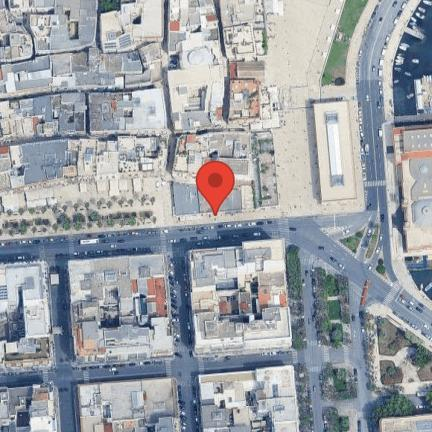area_open: (379, 0, 432, 314), (0, 175, 174, 242), (270, 86, 326, 216), (262, 0, 344, 87), (324, 80, 371, 215), (279, 213, 348, 268), (348, 0, 386, 82), (312, 82, 356, 101), (170, 355, 208, 376), (51, 367, 83, 387), (161, 55, 181, 69)
built: (190, 243, 292, 355), (68, 254, 172, 361), (196, 366, 303, 432), (78, 378, 183, 432), (0, 260, 53, 364), (393, 122, 432, 256), (313, 101, 359, 203), (168, 62, 223, 133), (172, 131, 250, 178), (31, 0, 98, 53), (14, 140, 81, 190), (91, 88, 165, 131), (0, 386, 60, 432), (0, 95, 54, 142), (172, 183, 245, 217), (112, 44, 162, 87), (252, 131, 279, 208), (0, 1, 34, 61), (120, 0, 164, 46), (1, 55, 52, 94), (185, 1, 222, 54), (119, 135, 166, 175), (76, 46, 116, 89), (224, 24, 267, 63), (80, 140, 119, 179), (100, 11, 138, 51), (53, 91, 87, 135), (252, 85, 282, 130), (229, 79, 263, 118), (220, 0, 265, 29), (380, 413, 432, 432), (0, 145, 19, 196), (53, 53, 79, 89), (168, 0, 185, 54), (180, 47, 221, 69), (24, 187, 59, 209), (413, 76, 432, 112), (8, 0, 56, 14), (229, 62, 266, 79), (3, 192, 19, 212), (265, 1, 283, 15), (95, 180, 111, 194), (119, 176, 130, 191), (133, 176, 143, 192), (79, 182, 88, 194)
vegetation_low: (365, 304, 432, 396), (320, 0, 374, 87), (312, 266, 351, 346), (286, 245, 308, 350), (296, 363, 319, 432), (325, 363, 358, 401), (99, 0, 123, 13)
water: (393, 36, 432, 115), (410, 270, 432, 302), (408, 2, 427, 36)
